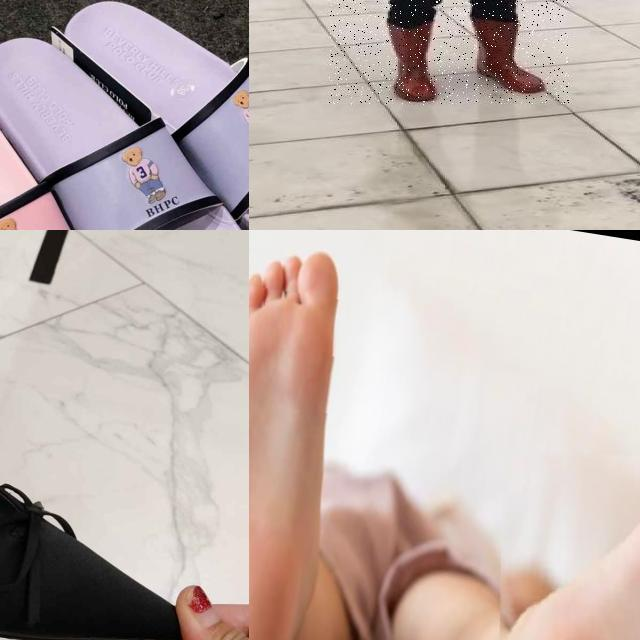Barefoots: (249, 230, 360, 640), (465, 427, 640, 640)
Sandals: (0, 0, 249, 230), (0, 364, 201, 640), (0, 51, 125, 230)
boots: (470, 15, 548, 95), (380, 18, 442, 105)
person: (329, 0, 569, 104)
